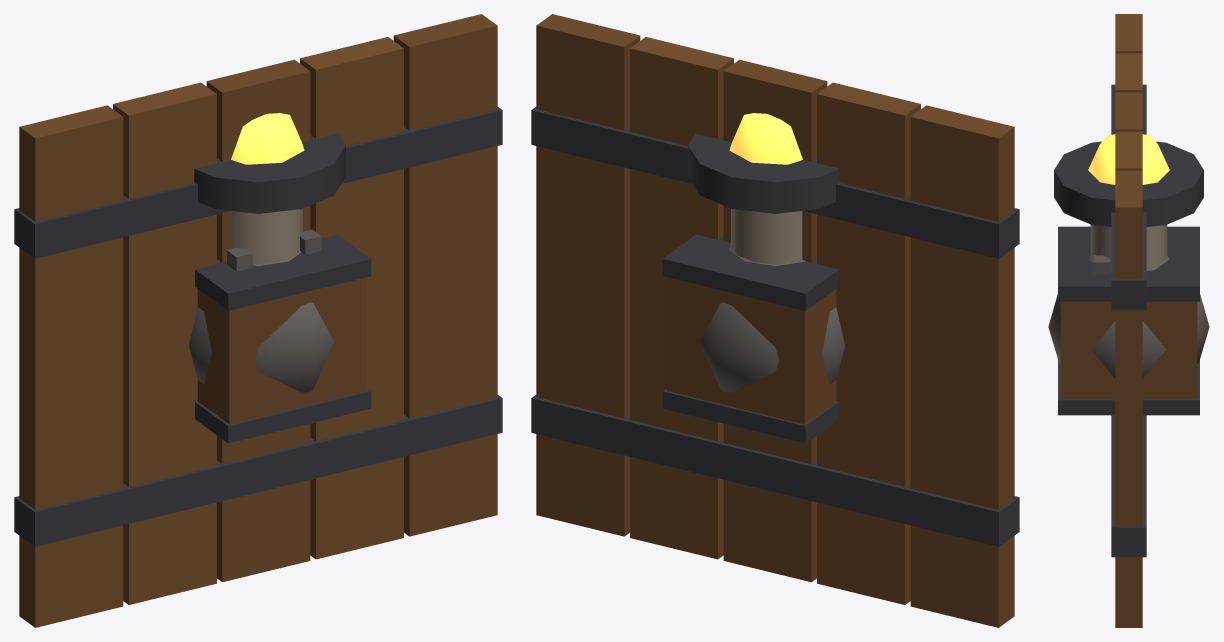
Rendered from props.glb.
3 renders of one model, left to right at view 1: azimuth 30°, elevation 25°; view 2: azimuth 150°, elevation 25°; view 3: azimuth 270°, elevation 25°, orthographic. The views are drawn at different scales.
Visible parts, largest first — view 1: Gate, Crate, Brazier, Boulder, Spitter; view 2: Gate, Crate, Brazier, Boulder; view 3: Gate, Crate, Brazier, Boulder, Spitter.
Part boxes in pixels (x1,y1,x2,y2): Gate: (14,14,502,627); Crate: (195,234,371,443); Brazier: (194,113,345,264); Boulder: (189,250,333,392); Spitter: (227,229,321,271); Gate: (531,14,1019,627); Crate: (662,234,838,443); Brazier: (688,113,839,264); Boulder: (700,245,844,392); Gate: (1111,14,1146,627); Crate: (1058,226,1199,415); Brazier: (1054,134,1203,270); Boulder: (1048,256,1209,378); Spitter: (1093,255,1109,274).
Size of the model in its own units: 3.4 by 3.4 by 1.18.
